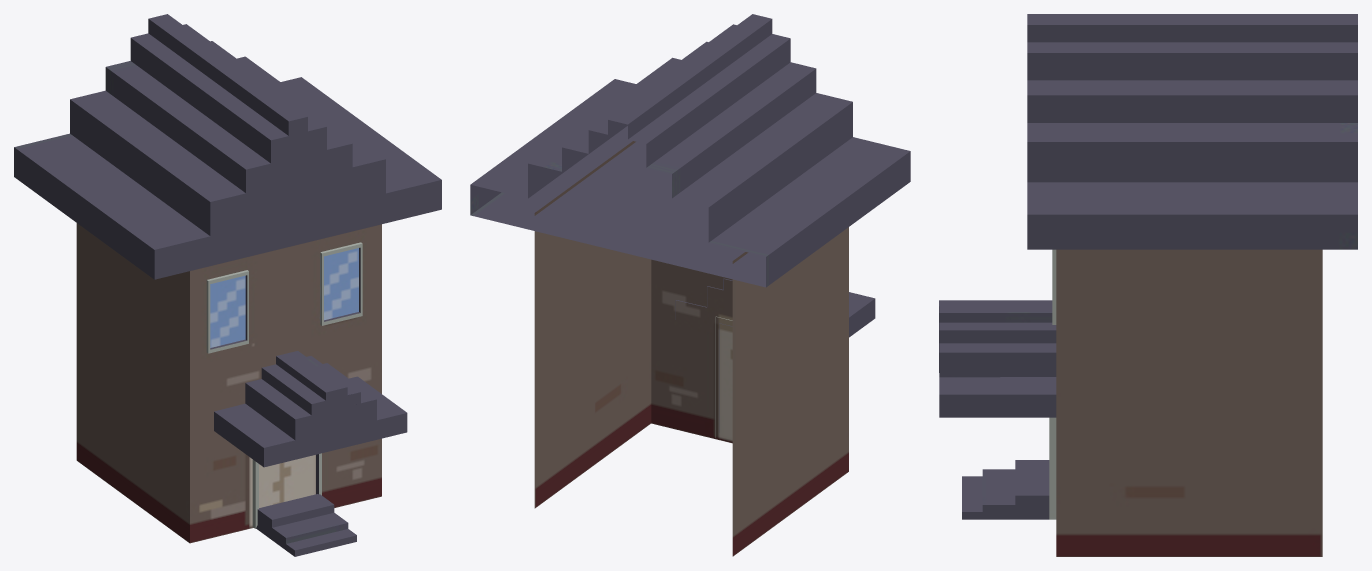
Rendered from casa2.FBX.
3 views of the same model, side by side, from view 1: azimuth 30°, elevation 25°; view 2: azimuth 150°, elevation 25°; view 3: azimuth 270°, elevation 25° (orthographic). The views are drawn at different scales.
Parts seen in each view (by area): view 1: casa2; view 2: casa2; view 3: casa2.
Part boxes in pixels (<box>): casa2: <box>14,14,441,556</box>; casa2: <box>470,14,910,556</box>; casa2: <box>939,14,1357,556</box>.
Size of the model in its own units: 5.96 by 8.12 by 6.39.
